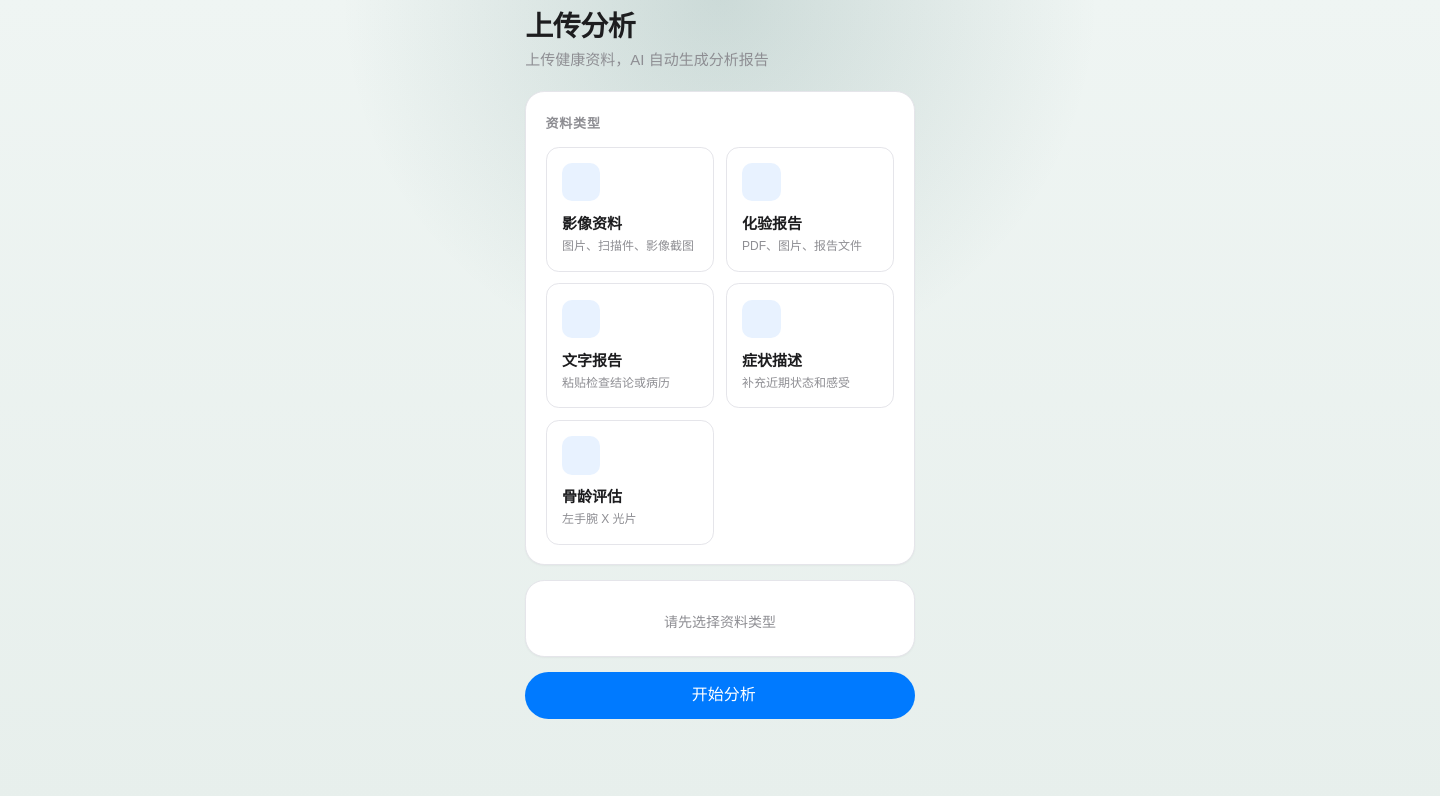
it: UploadPage › submits text content and shows generated report
Click the button "文字报告 粘贴检查结论或病历" at (630, 346), box [546, 283, 714, 408]
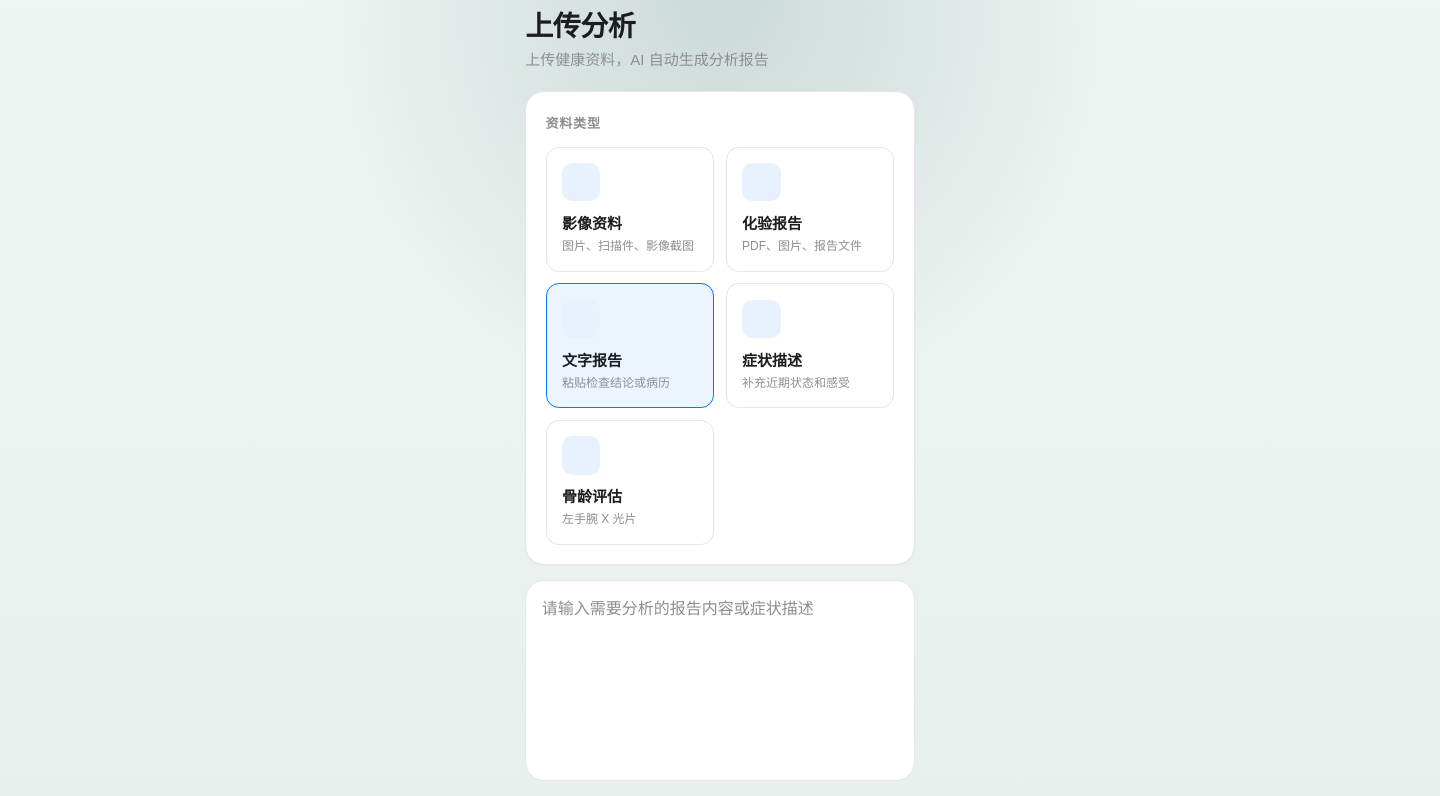
Type "这是用于测试上传分析功能的文本内容，长度已经足够。" into the text box at (720, 681), box [525, 580, 915, 781]
(page scrolled)
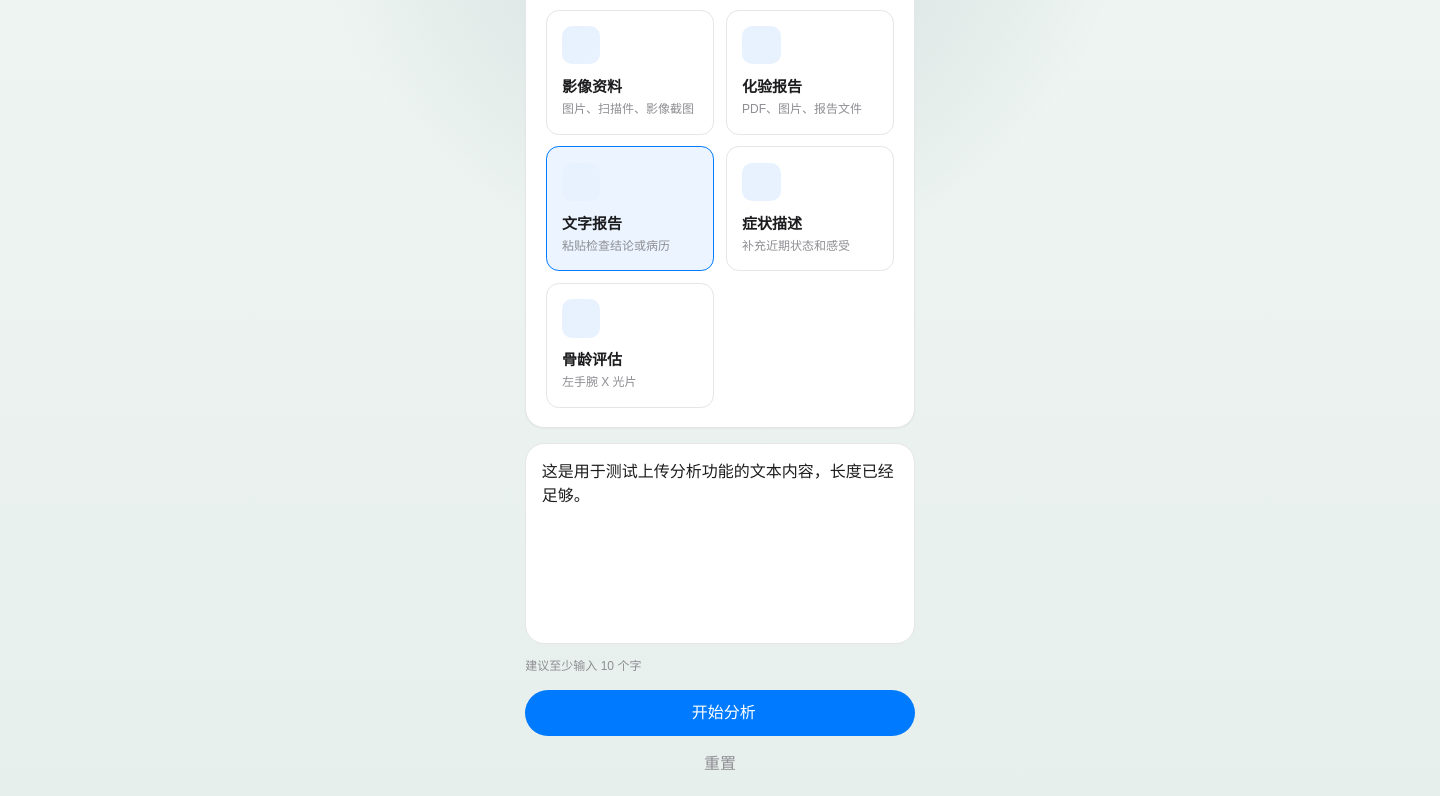
Click the button "开始分析" at (720, 713), box [525, 690, 915, 736]
(page scrolled)
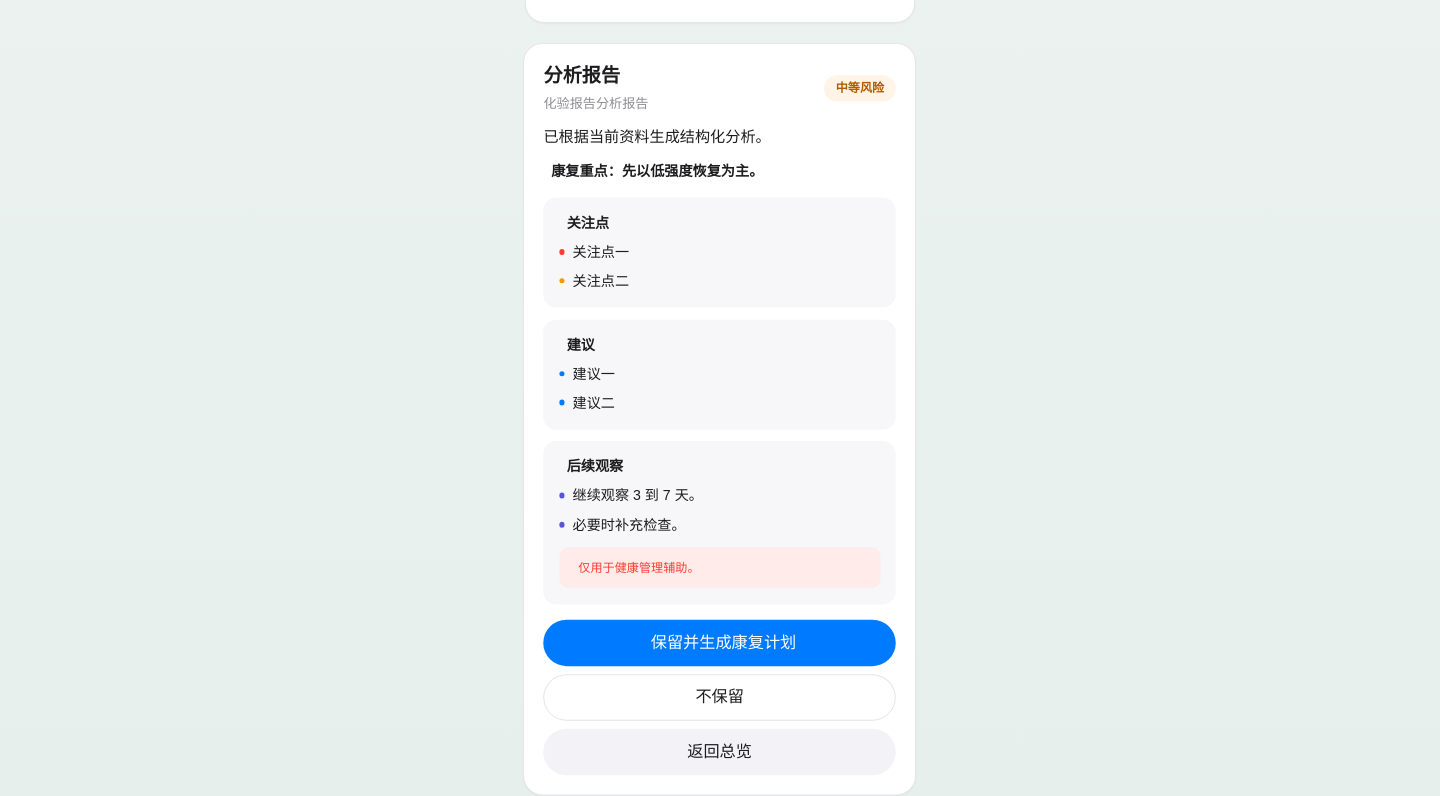
expect the text "化验报告分析报告" is shown: met, box [544, 93, 649, 112]
expect the button "保留并生成康复计划" is shown: met, box [544, 619, 896, 666]
